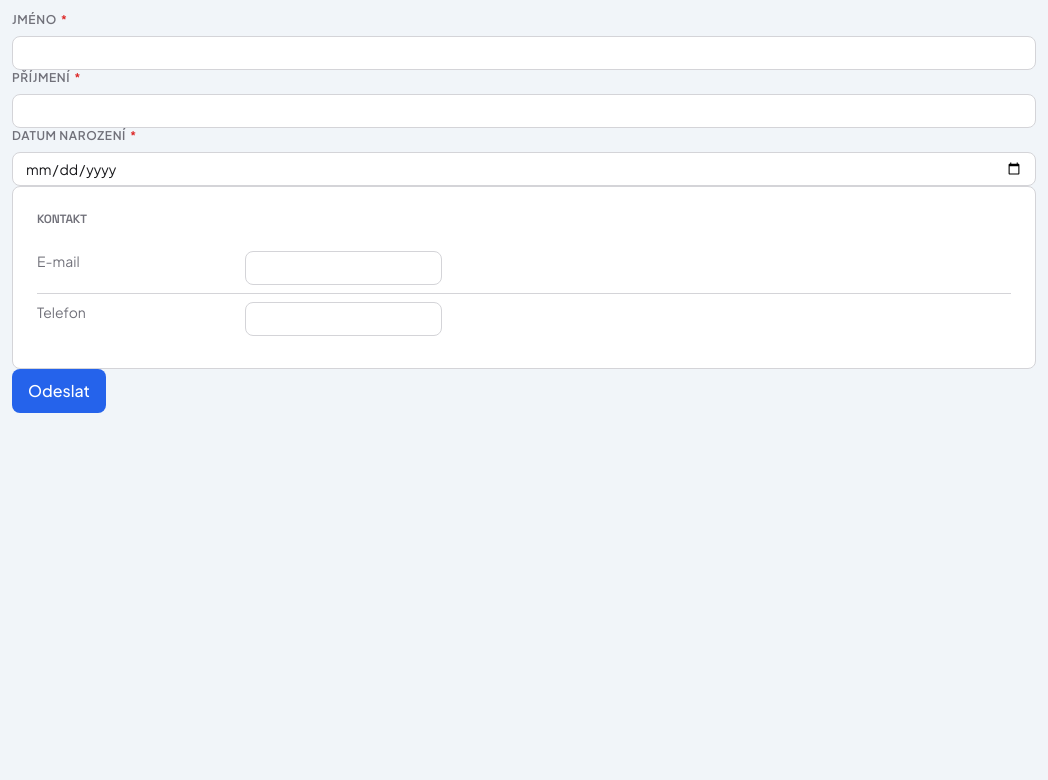
Test: member registration form validation › does not show guardian sections for an adult and shows them for a minor
The image size is (1048, 780).
Step 1. Type "1985-01-01" into the date field labelled "Datum narození*" → (524, 169), box [12,152,1036,186]
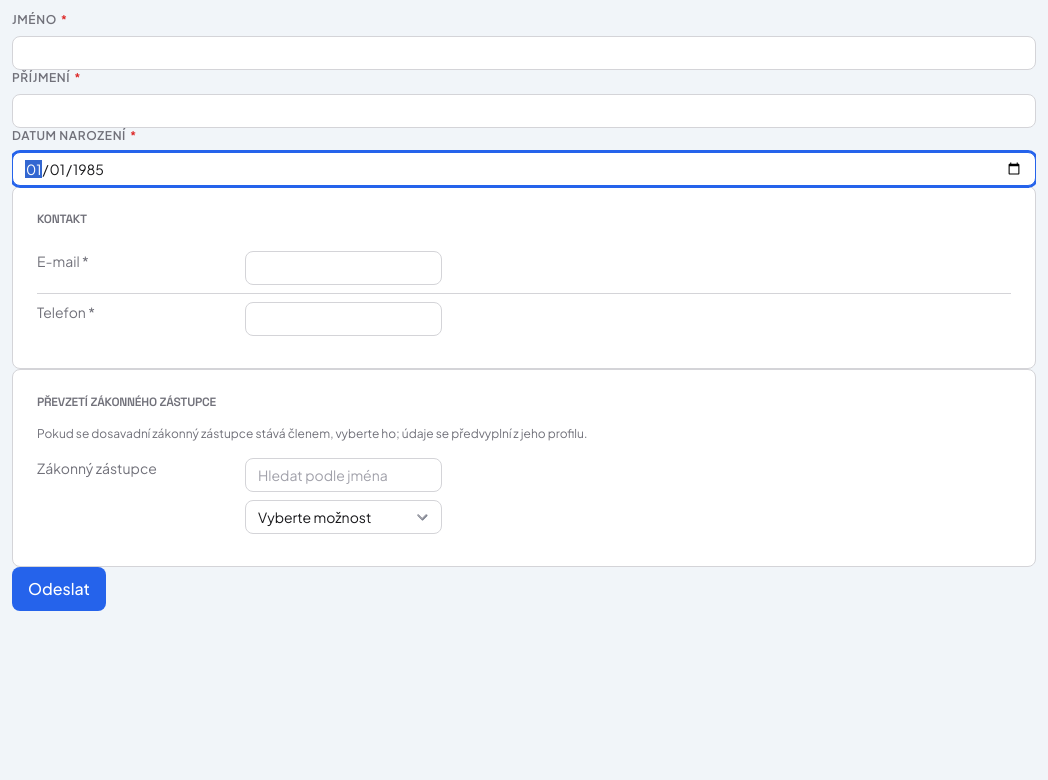
Expected: the text "ZÁKONNÍ ZÁSTUPCI" is not shown
Step 2. Type "2015-05-05" into the date field labelled "Datum narození*" → (524, 169), box [12,152,1036,186]
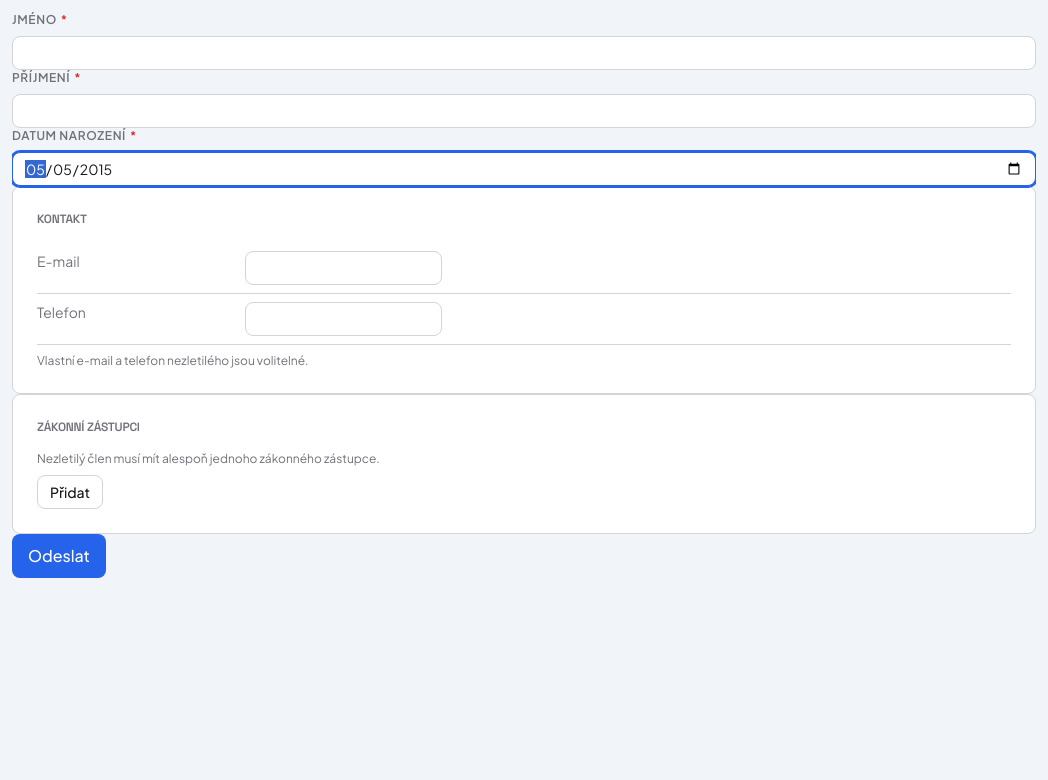
Result: the heading "ZÁKONNÍ ZÁSTUPCI" is shown at [37,419,140,435]
